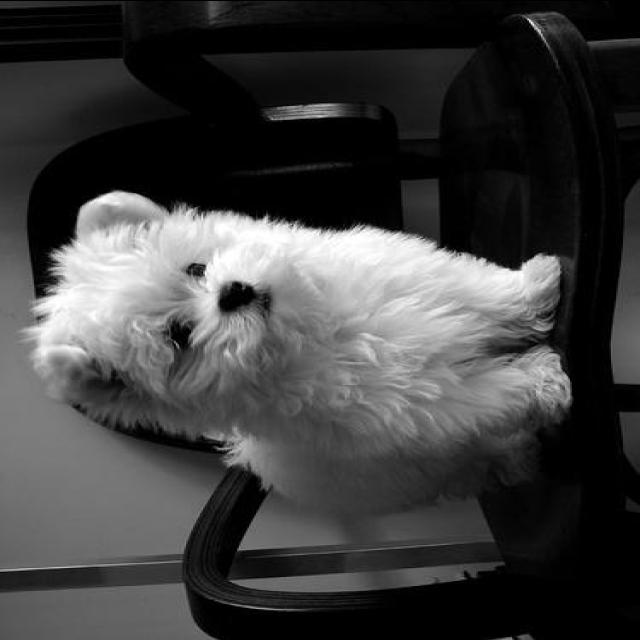maltese_dog: (22, 190, 574, 514)
